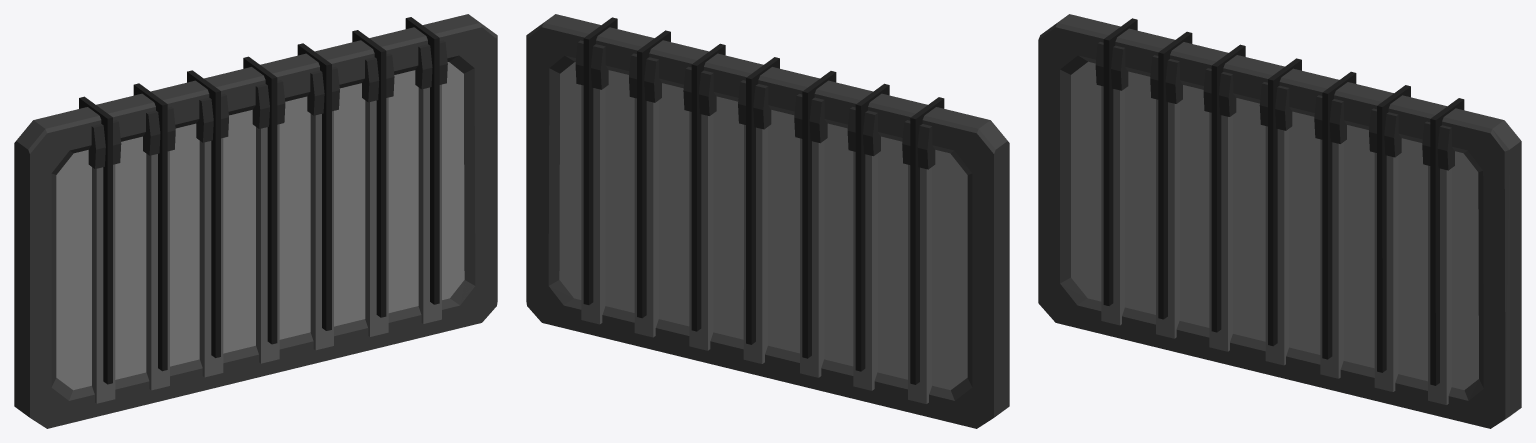
Rendered from office_2_large_door.FBX.
The picture shows the model from 3 angles, left to right: view 1: azimuth 30°, elevation 25°; view 2: azimuth 150°, elevation 25°; view 3: azimuth 330°, elevation 25°; orthographic projection.
Parts seen in each view (by area): view 1: office_2_large_door; view 2: office_2_large_door; view 3: office_2_large_door.
Boxes of the visible parts, <box> form: office_2_large_door: <box>14,14,497,428</box>; office_2_large_door: <box>526,14,1009,428</box>; office_2_large_door: <box>1038,14,1521,428</box>.
Size of the model in its own units: 456 by 280 by 47.99.
